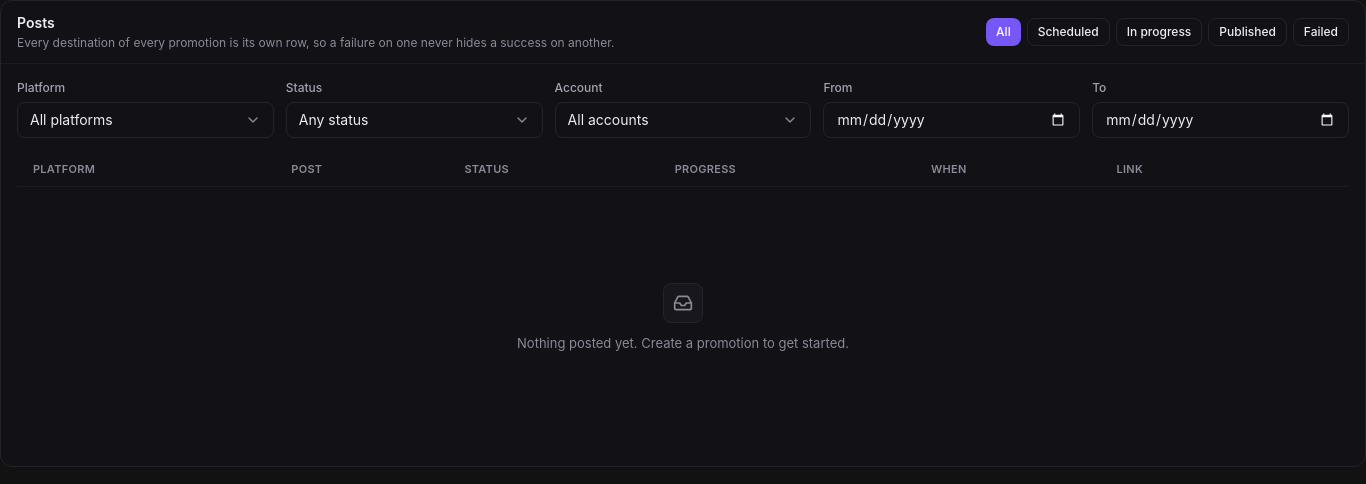
Scenario: PostsPanel › filters by platform and status on the server, and shows an empty state
Expected: the text "Nothing posted yet. Create a promotion to get started." is shown, [517,333,849,354]
Click the button "Failed".
click(1321, 32)  # box [1293,18,1349,46]
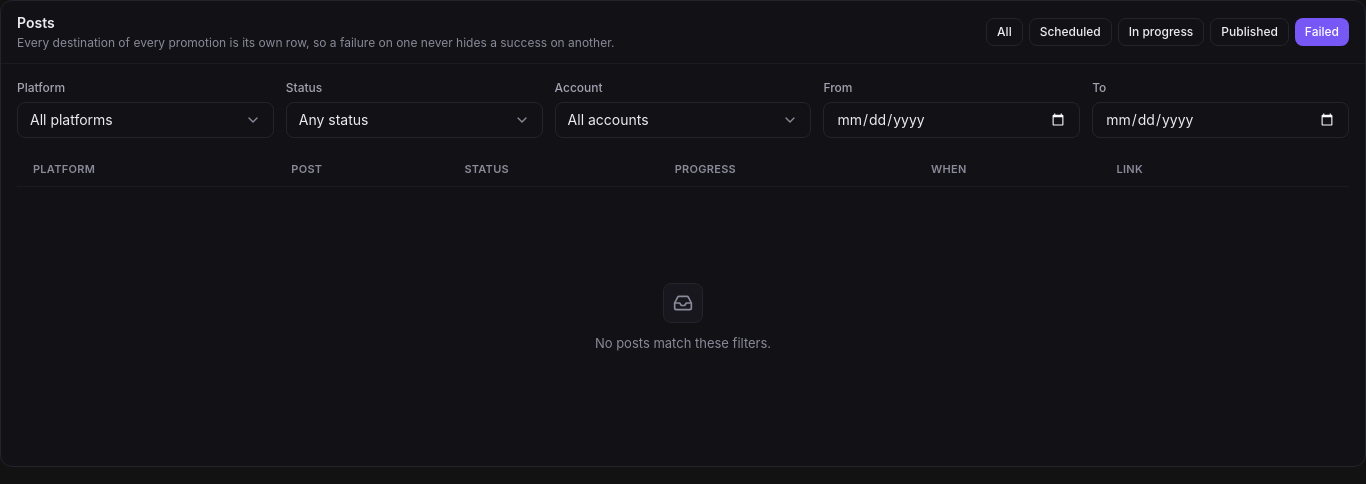
Result: the text "No posts match these filters." is shown at [595,333,771,354]
